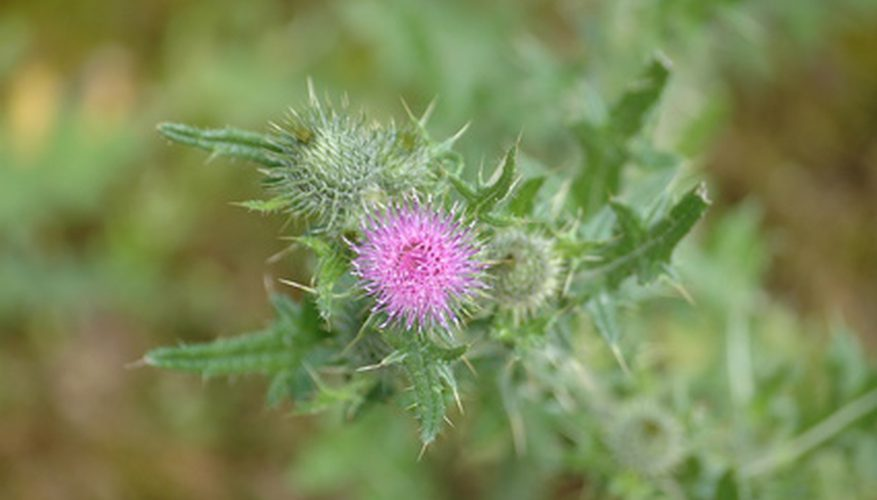thistle: (325, 192, 495, 336)
